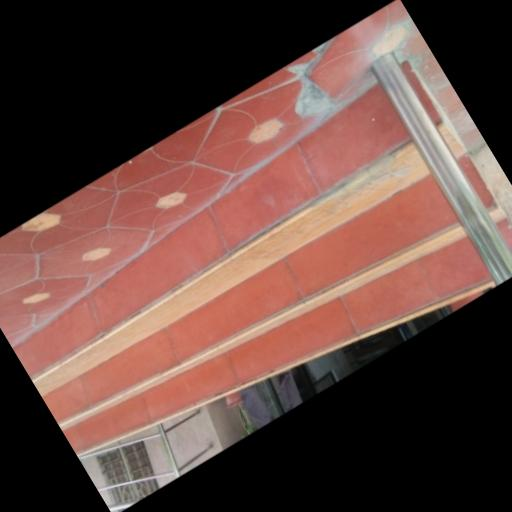stairs: (13, 84, 489, 454)
